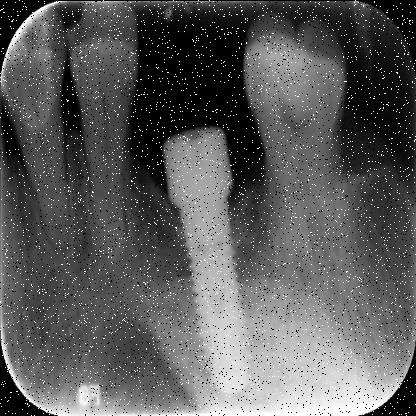Bego: (176, 204, 257, 401)
